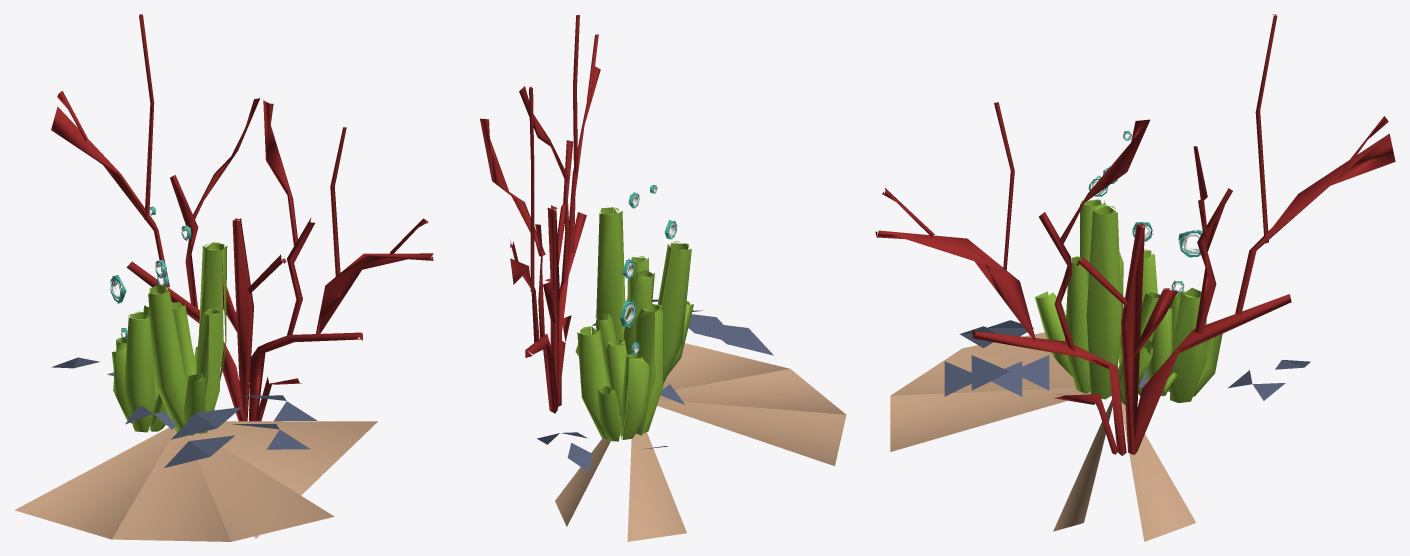
File: sea_coral2.glb
3 views of the same model, side by side, from view 1: azimuth 30°, elevation 25°; view 2: azimuth 150°, elevation 25°; view 3: azimuth 270°, elevation 25° (orthographic). The views are drawn at different scales.
Parts seen in each view (by area): view 1: Sphere001, Tube010, Tube001, Line006, Tube012, Line019, Line015, Tube007, Line003, GeoSphere001, GeoSphere002, Line001 (+9 smaller); view 2: Sphere001, Tube012, Tube010, Tube001, Tube006, Tube002, Line006, Line014, Tube004, Tube009, Tube005, Line003 (+12 smaller); view 3: Sphere001, Tube012, Line006, Line015, Line001, Line019, Tube006, Tube007, Line003, GeoSphere001, GeoSphere002, Line002 (+12 smaller).
Part boxes in pixels (x1,y1,x2,y2): Sphere001: (14, 421, 377, 541); Tube010: (148, 285, 191, 435); Tube001: (125, 311, 155, 432); Line006: (232, 218, 253, 421); Tube012: (196, 242, 227, 409); Line019: (315, 253, 433, 334); Line015: (51, 107, 169, 287); Tube007: (199, 308, 220, 433); Line003: (249, 332, 362, 421); GeoSphere001: (171, 395, 317, 439); GeoSphere002: (164, 423, 310, 467); Line001: (126, 261, 245, 421); Sphere001: (555, 343, 846, 541); Tube012: (596, 207, 625, 340); Tube010: (658, 241, 691, 383); Tube001: (635, 303, 663, 435); Tube006: (577, 326, 621, 439); Tube002: (621, 354, 649, 439); Line006: (547, 205, 559, 411); Line014: (480, 118, 545, 256); Tube004: (604, 339, 628, 428); Tube009: (623, 270, 654, 355); Tube005: (597, 386, 621, 441); Line003: (558, 212, 586, 406); Sphere001: (890, 332, 1195, 541); Tube012: (1086, 205, 1121, 399); Line006: (1121, 223, 1146, 454); Line015: (1235, 133, 1395, 314); Line001: (1127, 294, 1291, 453); Line019: (875, 230, 1035, 342); Tube006: (1170, 287, 1206, 402); Tube007: (1065, 256, 1090, 393); Line003: (972, 329, 1126, 455); GeoSphere001: (971, 320, 1049, 390); GeoSphere002: (944, 326, 1022, 396); Line002: (1195, 188, 1232, 334).
Size of the model in its own units: 93.9 by 112 by 104.
